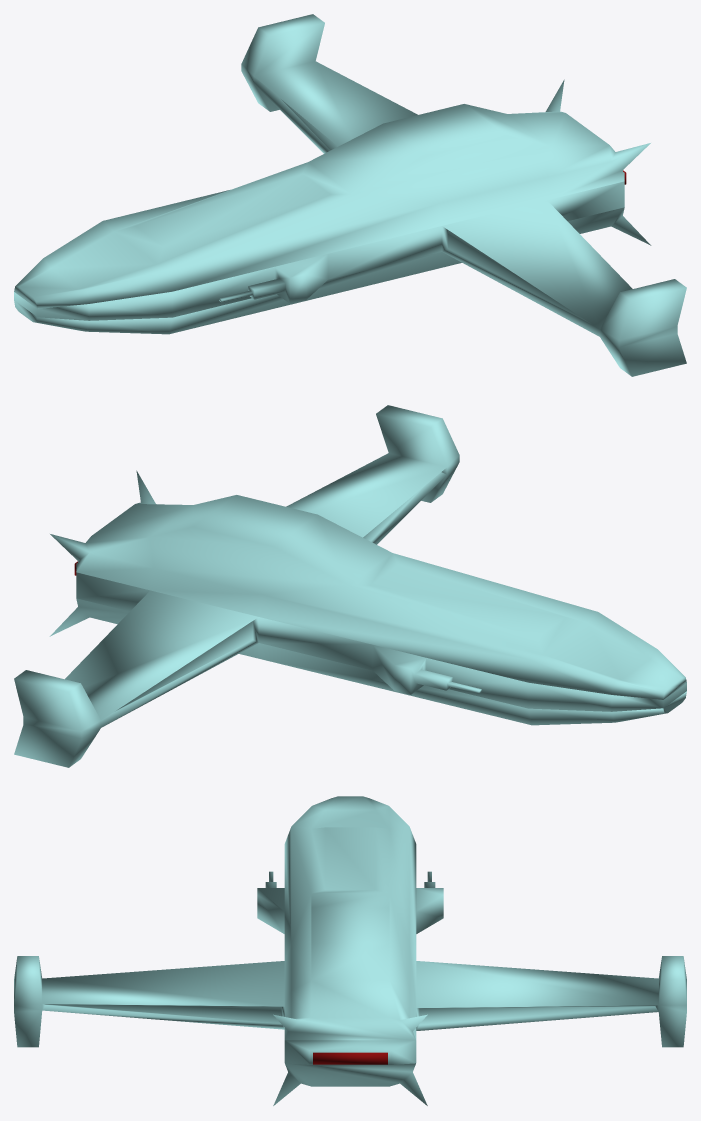
File: PRspace.obj
3 views of the same model, one above another, from view 1: azimuth 30°, elevation 25°; view 2: azimuth 150°, elevation 25°; view 3: azimuth 270°, elevation 25° (orthographic). The views are drawn at different scales.
Parts seen in each view (by area): view 1: Box001; view 2: Box001; view 3: Box001, Box002.
Boxes of the visible parts, box(x1,y1,x2,y2) form: Box001: box(14, 14, 686, 376); Box001: box(14, 405, 686, 767); Box001: box(14, 796, 686, 1105); Box002: box(313, 1052, 387, 1064).
Size of the model in its own units: 178 by 36.26 by 200.
